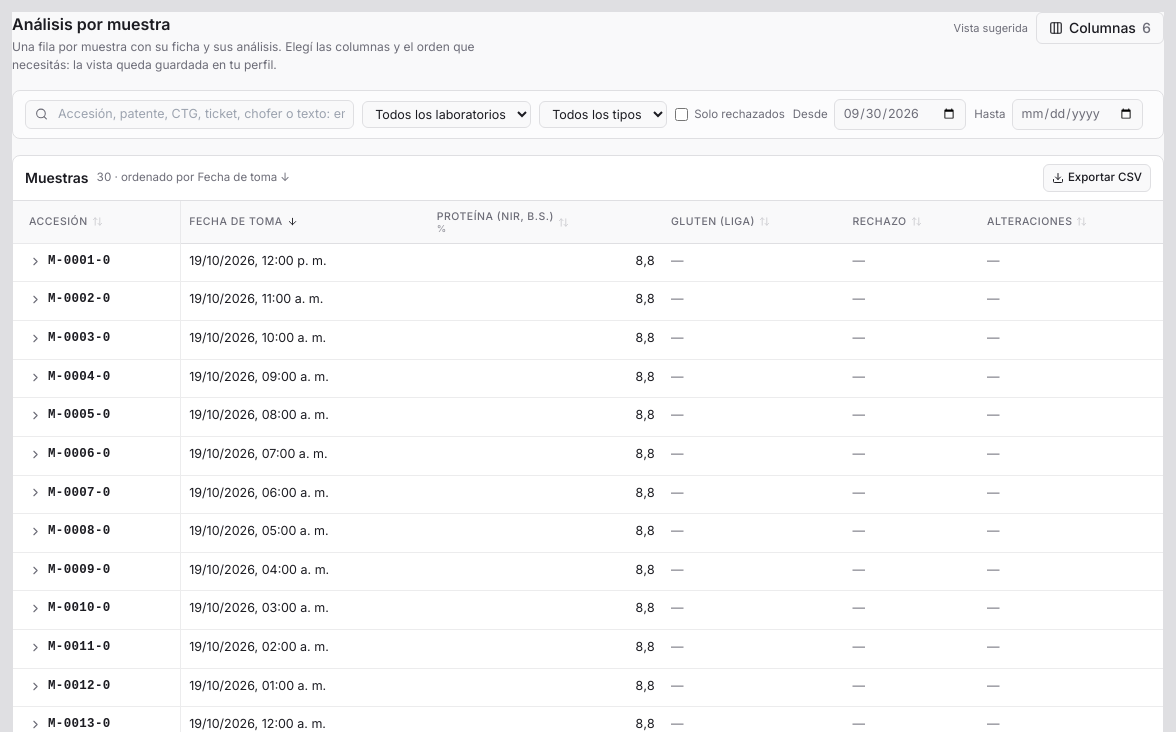
Test: LabAnalysisPage: filtrar no cuelga la página › abrir una fila no vuelve a dibujar las demás
The image size is (1176, 732).
Click the row "M-0001-0 19/10/2026, 12:00 p. m. 8,8 — — —" at x=588, y=263, box [13,244,1163,282]
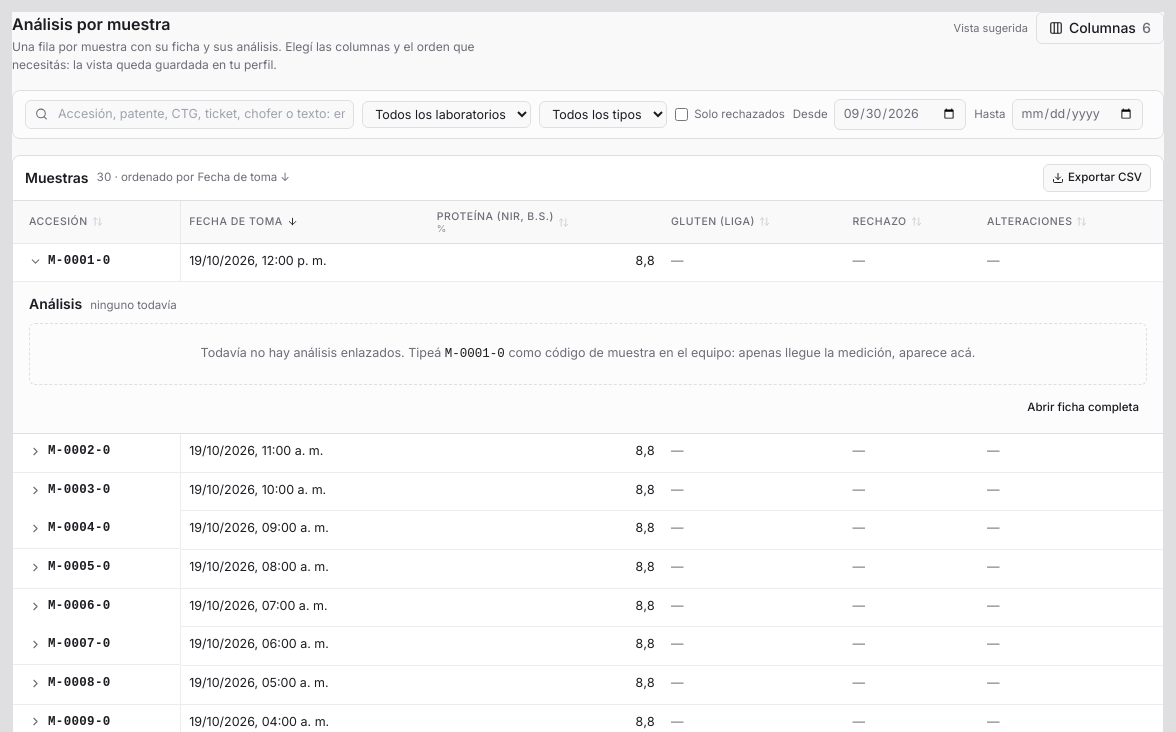
Result: the button "Abrir ficha completa" is shown at [1019,393,1147,421]
